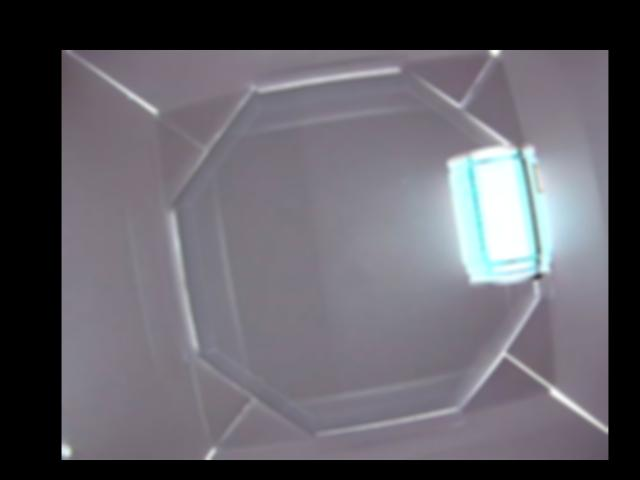Bottle: (446, 145, 551, 288)
